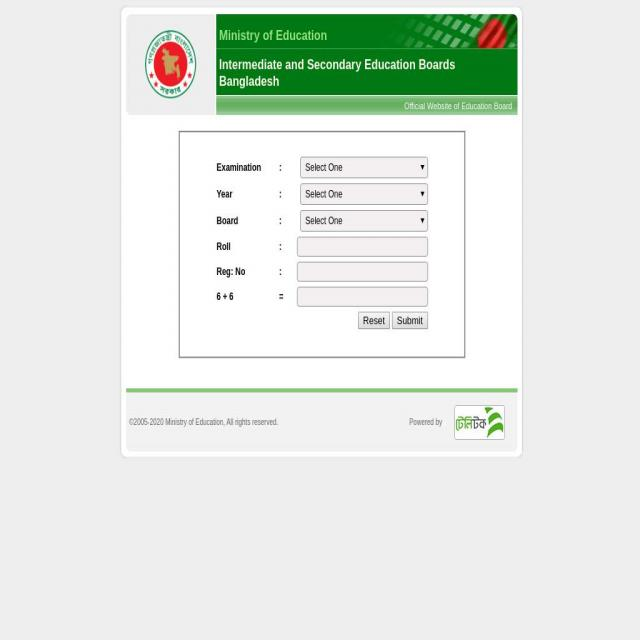form: (202, 145, 458, 347)
